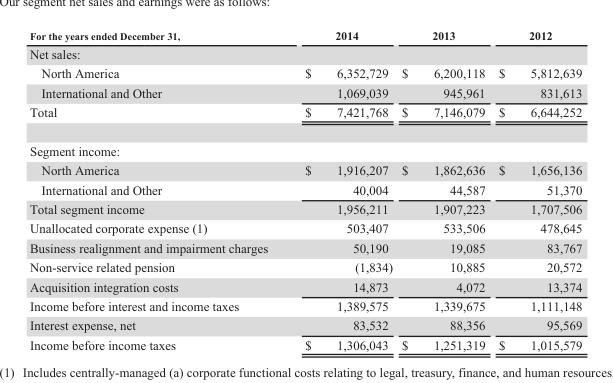table: (28, 28, 581, 351)
table column: (28, 28, 285, 351), (285, 28, 396, 351), (396, 28, 491, 351), (491, 28, 581, 351)
table column header: (28, 28, 581, 43)
table projected row header: (28, 131, 581, 160), (28, 43, 581, 63)
table row: (28, 102, 581, 131), (28, 131, 581, 160), (28, 43, 581, 63), (28, 82, 581, 102), (28, 179, 581, 199), (28, 237, 581, 257), (28, 295, 581, 315), (28, 63, 581, 82), (28, 160, 581, 179), (28, 199, 581, 218), (28, 218, 581, 237), (28, 257, 581, 276), (28, 276, 581, 295), (28, 315, 581, 334), (28, 334, 581, 351), (28, 28, 581, 43)
